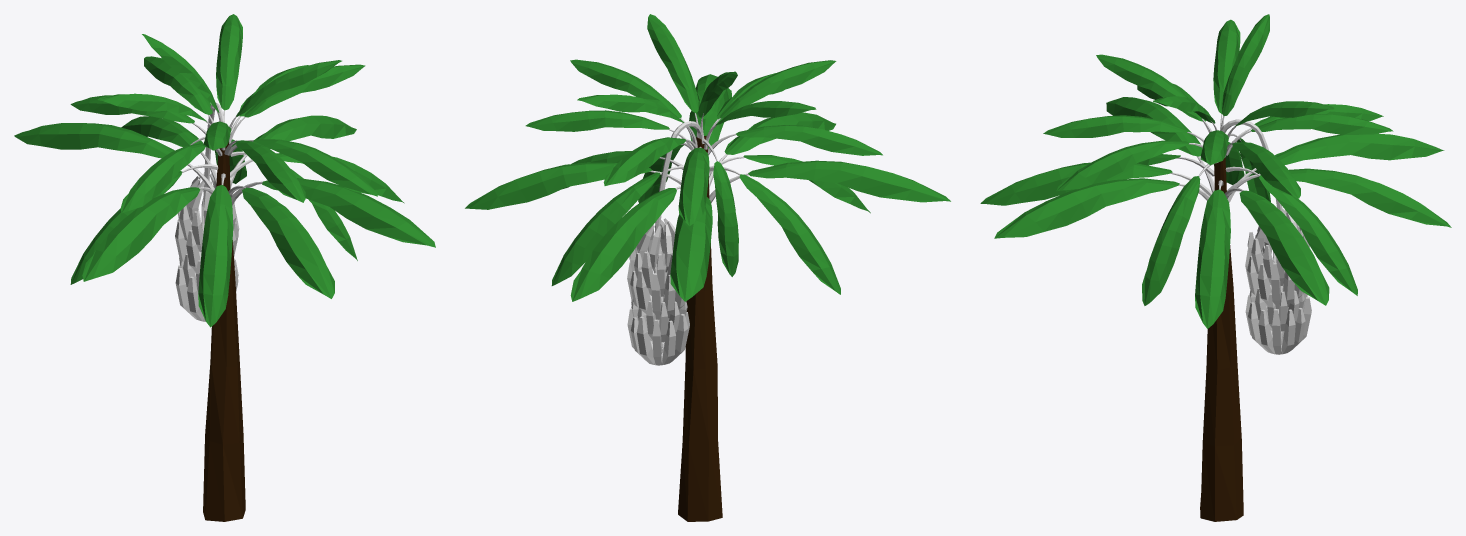
File: Banana_Tree_SC.fbx
3 renders of one model, left to right at view 1: azimuth 30°, elevation 25°; view 2: azimuth 150°, elevation 25°; view 3: azimuth 270°, elevation 25°, orthographic.
Visible parts, largest first — view 1: bananaleaf; view 2: bananaleaf; view 3: bananaleaf.
Part boxes in pixels (x1,y1,x2,y2): bananaleaf: (14,14,435,521); bananaleaf: (465,14,950,521); bananaleaf: (980,14,1451,521).
Size of the model in its own units: 4.86 by 5.82 by 5.26.
